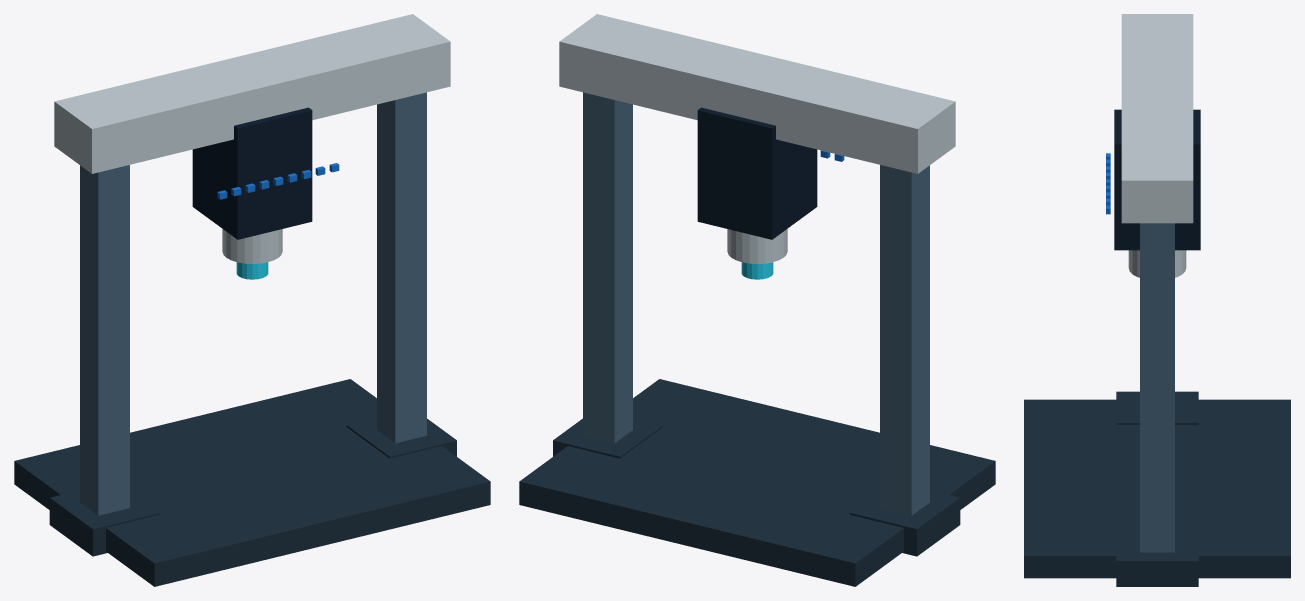
File: 45_L73_OpticalSurfaceProfilometer.fbx
The picture shows the model from 3 angles, left to right: view 1: azimuth 30°, elevation 25°; view 2: azimuth 150°, elevation 25°; view 3: azimuth 270°, elevation 25°; orthographic projection. The views are drawn at different scales.
Visible parts, largest first — view 1: OpticalSurfaceProfilometer, OpticalSurfaceProfilometer_Part_0005, OpticalSurfaceProfilometer_Part_0006; view 2: OpticalSurfaceProfilometer, OpticalSurfaceProfilometer_Part_0005, OpticalSurfaceProfilometer_Part_0006; view 3: OpticalSurfaceProfilometer, OpticalSurfaceProfilometer_Part_0005, OpticalSurfaceProfilometer_Part_0006.
Part boxes in pixels (left/top/right/bottom): OpticalSurfaceProfilometer: left=14, top=14, right=490, bottom=586; OpticalSurfaceProfilometer_Part_0005: left=192, top=107, right=312, bottom=239; OpticalSurfaceProfilometer_Part_0006: left=222, top=229, right=282, bottom=263; OpticalSurfaceProfilometer: left=519, top=14, right=995, bottom=586; OpticalSurfaceProfilometer_Part_0005: left=697, top=107, right=817, bottom=239; OpticalSurfaceProfilometer_Part_0006: left=727, top=229, right=787, bottom=263; OpticalSurfaceProfilometer: left=1024, top=14, right=1290, bottom=586; OpticalSurfaceProfilometer_Part_0005: left=1114, top=109, right=1200, bottom=250; OpticalSurfaceProfilometer_Part_0006: left=1128, top=250, right=1186, bottom=277.
Size of the model in its own units: 195 by 218 by 130.
